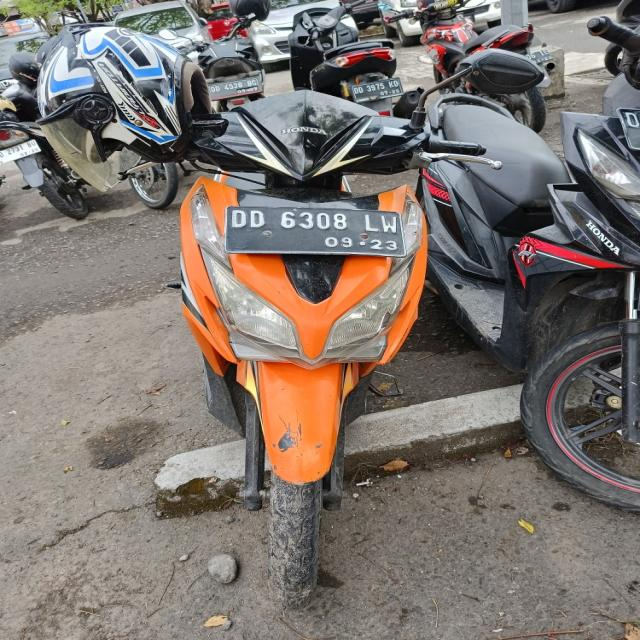plates: (232, 197, 408, 261)
